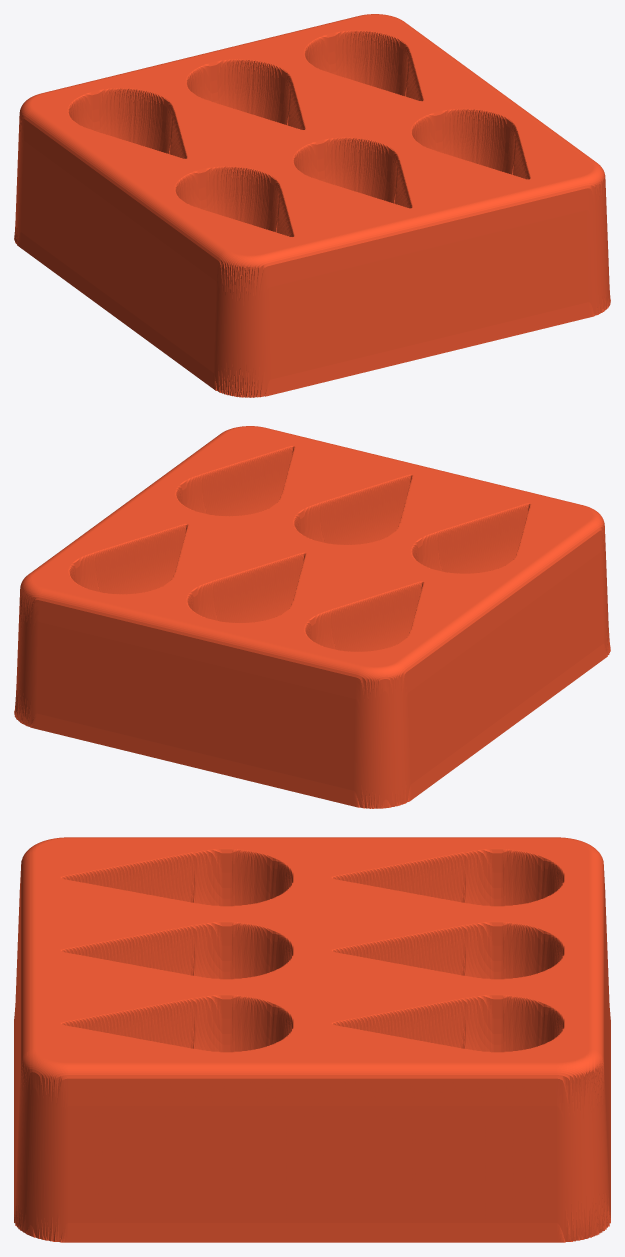
The model's file is mold.glb.
The picture shows the model from 3 angles, top to bottom: view 1: azimuth 30°, elevation 25°; view 2: azimuth 150°, elevation 25°; view 3: azimuth 270°, elevation 25°; orthographic projection. The views are drawn at different scales.
Visible parts, largest first — view 1: geometry_0; view 2: geometry_0; view 3: geometry_0.
Part boxes in pixels (<box>): geometry_0: <box>14,14,610,397</box>; geometry_0: <box>14,426,610,808</box>; geometry_0: <box>14,837,610,1242</box>.
Bounding box in the file's own units: 0.0957 × 0.0314 × 0.0996.
